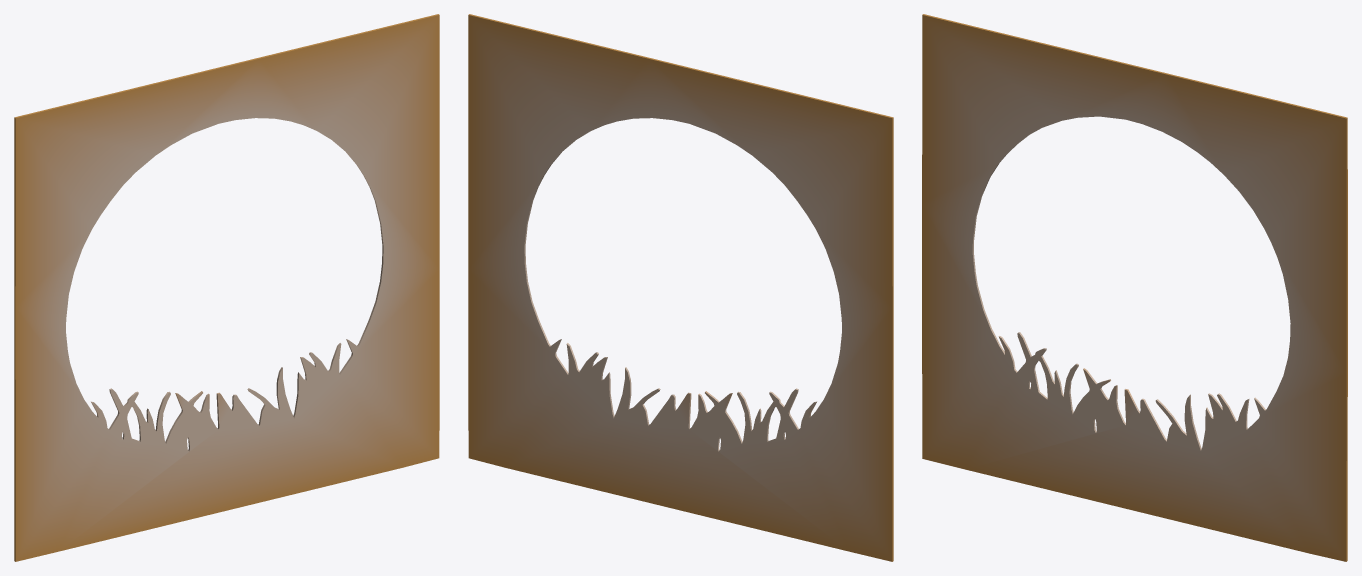
Rendered from fall_1a.fbx.
The picture shows the model from 3 angles, left to right: view 1: azimuth 30°, elevation 25°; view 2: azimuth 150°, elevation 25°; view 3: azimuth 330°, elevation 25°; orthographic projection.
Parts seen in each view (by area): view 1: fall_1a; view 2: fall_1a; view 3: fall_1a.
Boxes of the visible parts, left/top/right/bottom form: fall_1a: left=14, top=14, right=439, bottom=561; fall_1a: left=468, top=14, right=893, bottom=561; fall_1a: left=922, top=14, right=1347, bottom=561.
Size of the model in its own units: 198 by 198 by 1.
